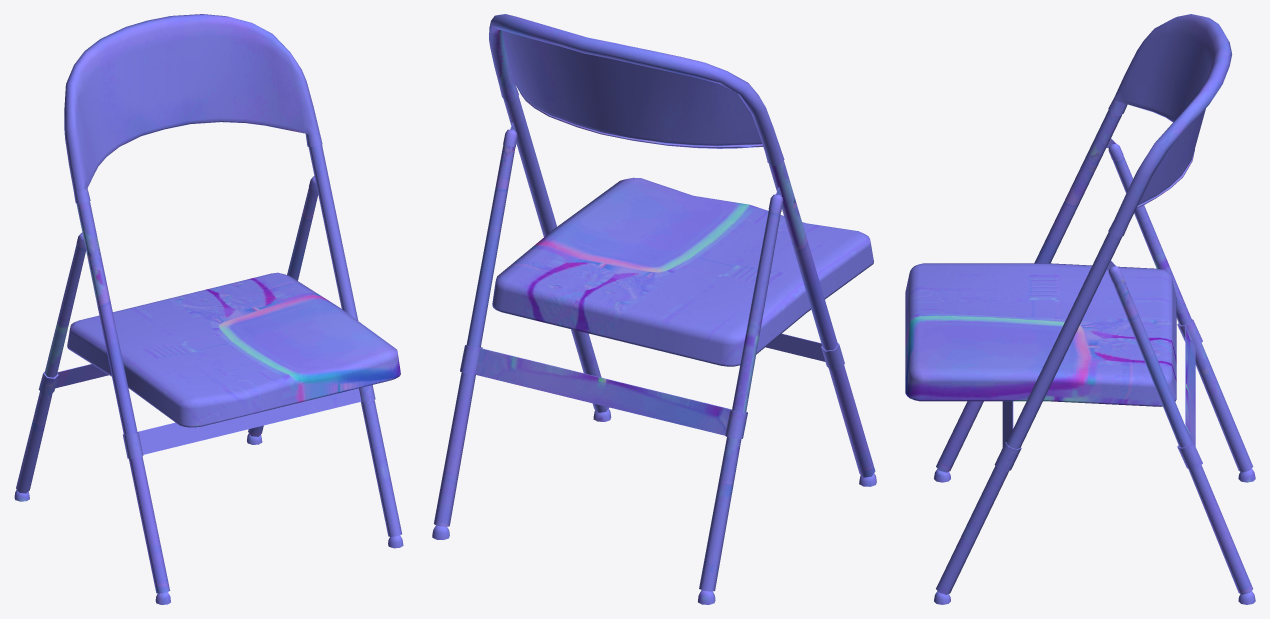
The model's file is Folding_Chair.glb.
3 views of the same model, side by side, from view 1: azimuth 30°, elevation 25°; view 2: azimuth 150°, elevation 25°; view 3: azimuth 270°, elevation 25° (orthographic). The views are drawn at different scales.
Parts seen in each view (by area): view 1: Folding_Chair; view 2: Folding_Chair; view 3: Folding_Chair.
Boxes of the visible parts, x1=… form: Folding_Chair: x1=14, y1=14, x2=403, y2=604; Folding_Chair: x1=432, y1=14, x2=876, y2=604; Folding_Chair: x1=905, y1=14, x2=1255, y2=604.
Bounding box in the file's own units: 5.8 × 10.26 × 6.62.
Materials: 3 (3 with a texture image).
